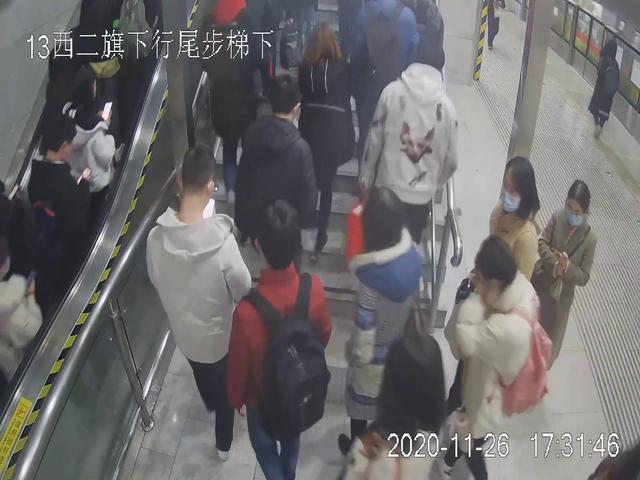person: (148, 145, 246, 459), (228, 199, 335, 479), (337, 186, 431, 455), (450, 231, 550, 480), (363, 39, 468, 276), (281, 18, 359, 246), (24, 104, 96, 331), (536, 175, 598, 385), (587, 32, 627, 138)
